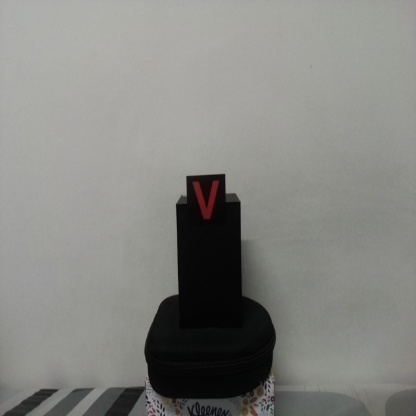id_11: (187, 175, 226, 230)
